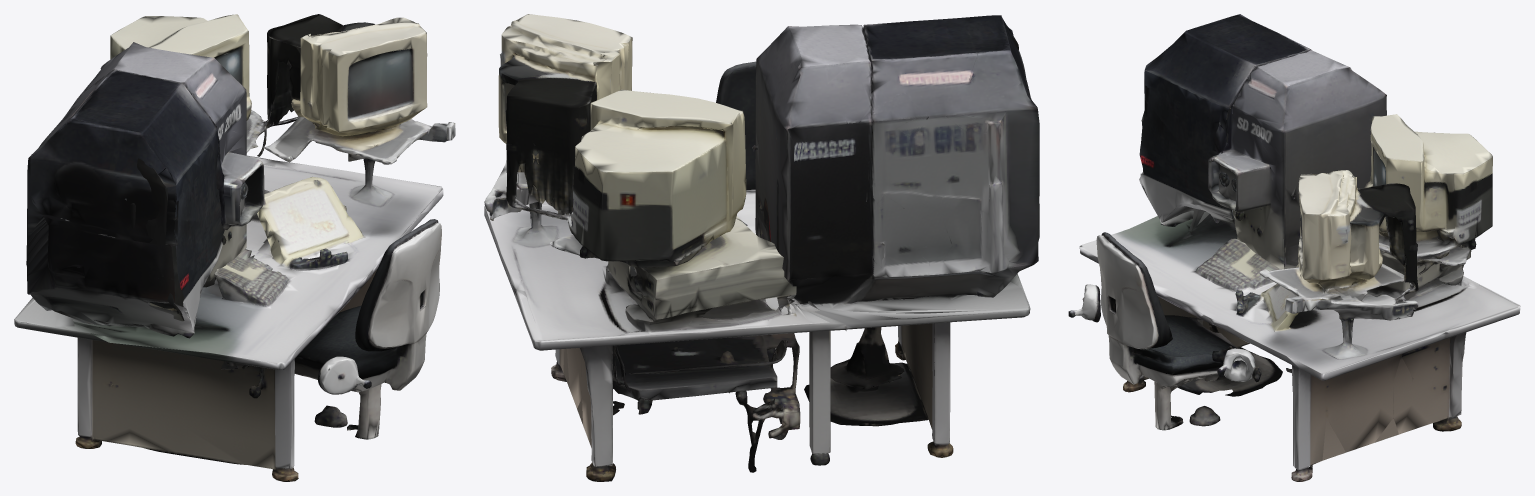
3 views of the same model, side by side, from view 1: azimuth 30°, elevation 25°; view 2: azimuth 150°, elevation 25°; view 3: azimuth 270°, elevation 25° (orthographic). The views are drawn at different scales.
Parts seen in each view (by area): view 1: geometry_0; view 2: geometry_0; view 3: geometry_0.
Part boxes in pixels (x1,y1,x2,y2): geometry_0: (14, 14, 455, 481); geometry_0: (484, 14, 1039, 481); geometry_0: (1068, 14, 1520, 481).
Size of the model in its own units: 1.08 by 0.7976 by 1.06.
Materials: 3 (3 with a texture image).
